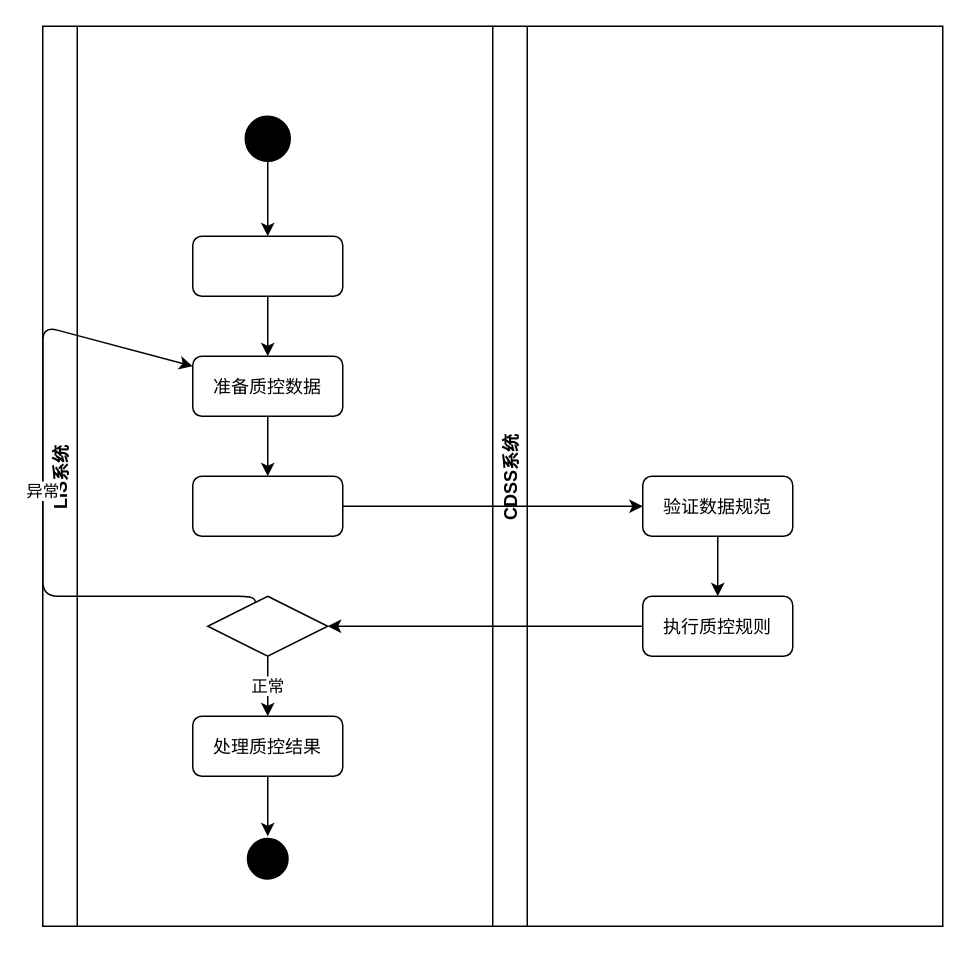
The diagram is 969 pixels wide and 953 high, and some of its shapes have lost their labels. Here are the shapes that lost their labels. From the top down, the centre of each, then its label:
the point at 267,265: 接收质控请求
the point at 267,505: 调用质控服务
the point at 267,625: 质控结果?
